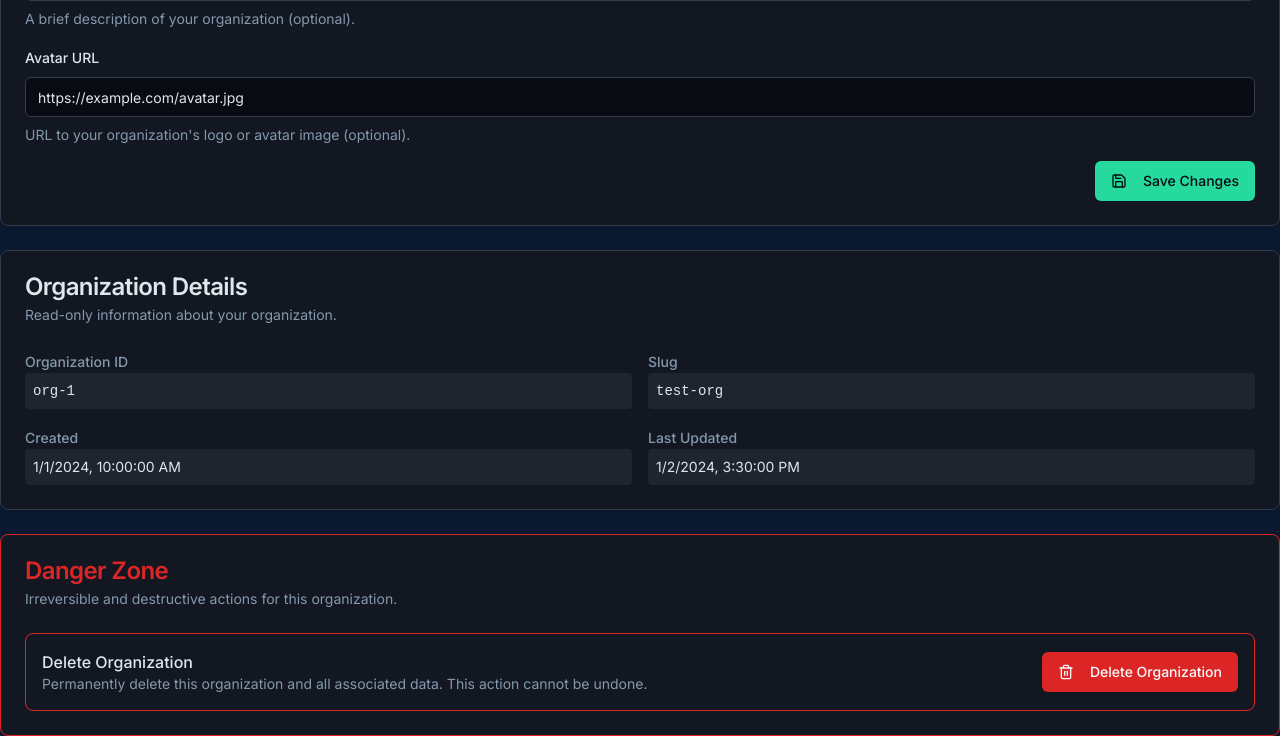
OrganizationSettings › shows loading state during deletion
(page scrolled)
Click the button "Delete Organization" at [1140, 672], box [1042, 652, 1238, 692]
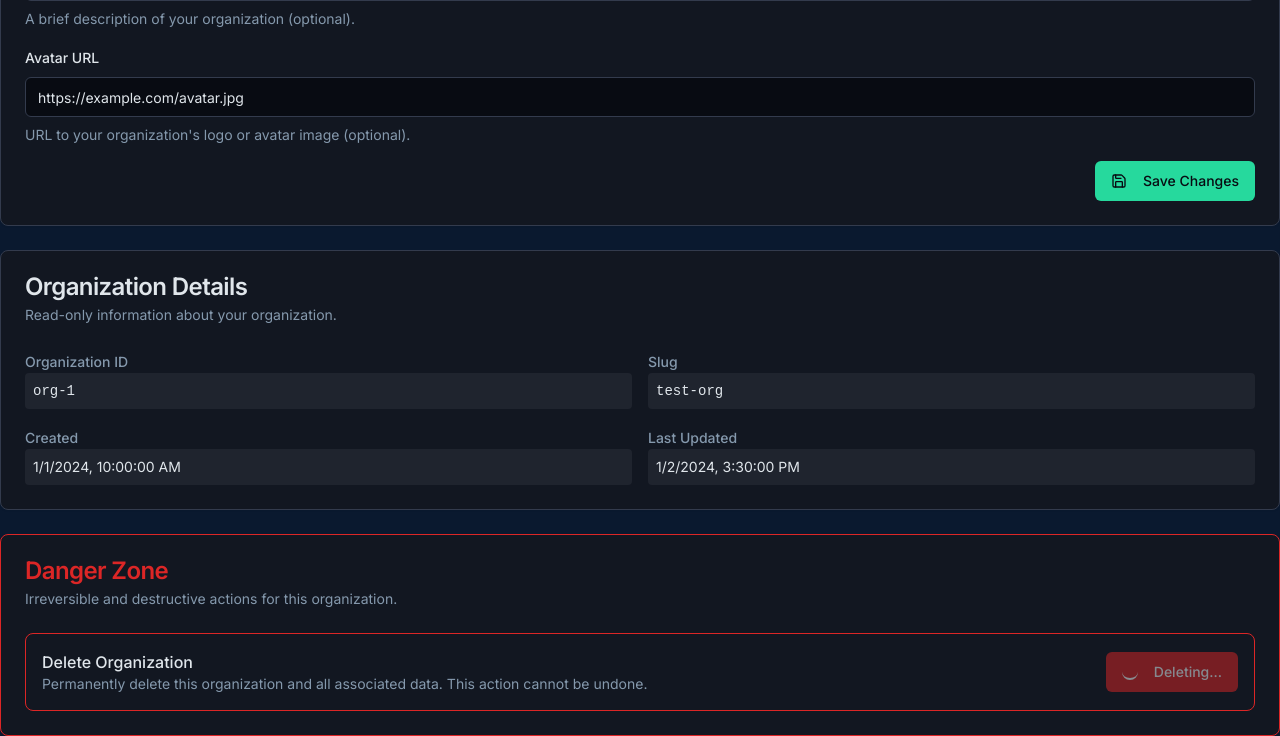
Check: the button "Deleting..." is disabled, box [1106, 652, 1238, 692]
